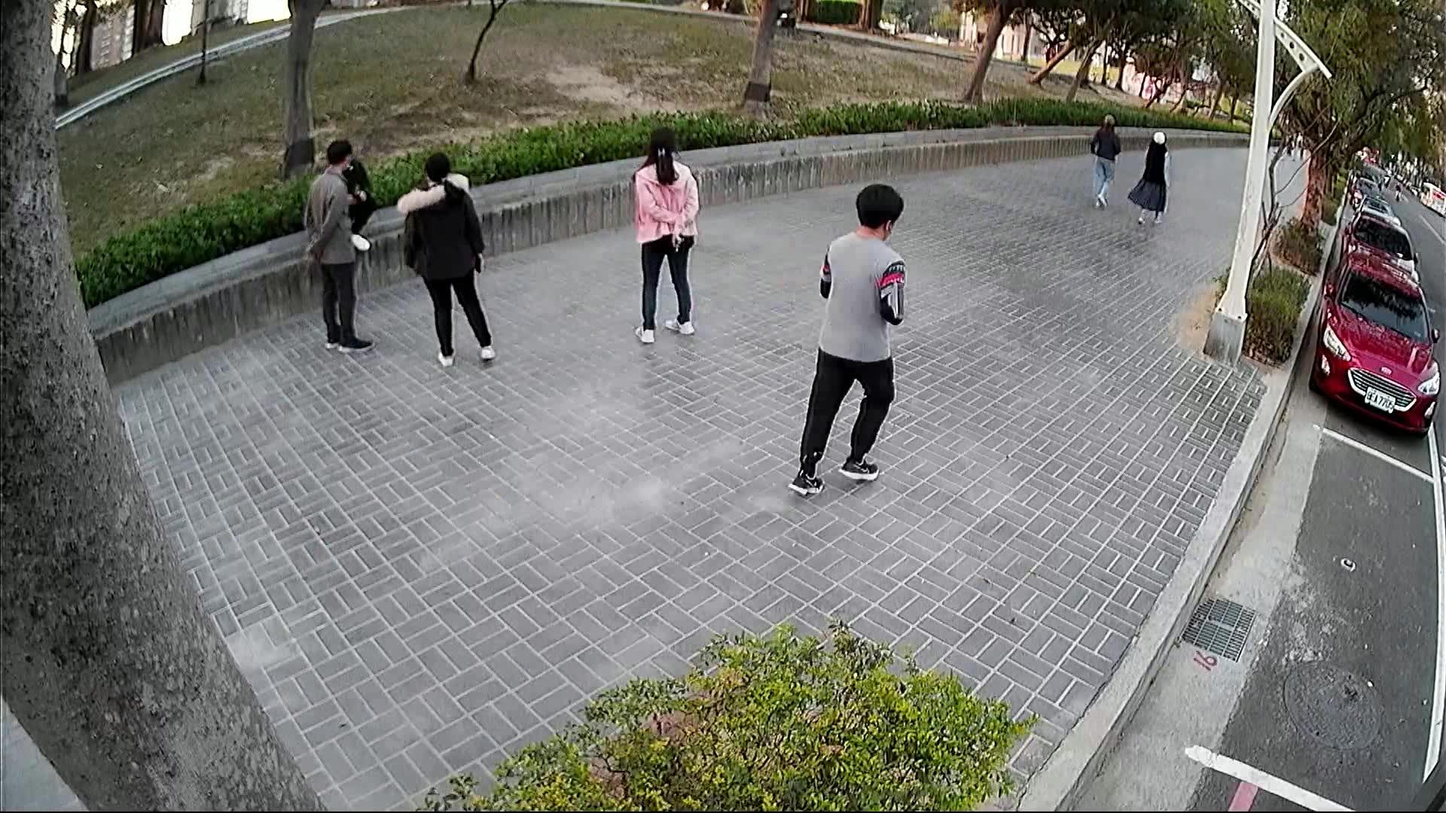person: (779, 176, 911, 504), (392, 145, 496, 370), (624, 120, 703, 346), (302, 135, 377, 358), (1119, 120, 1173, 232), (1081, 111, 1124, 212)
